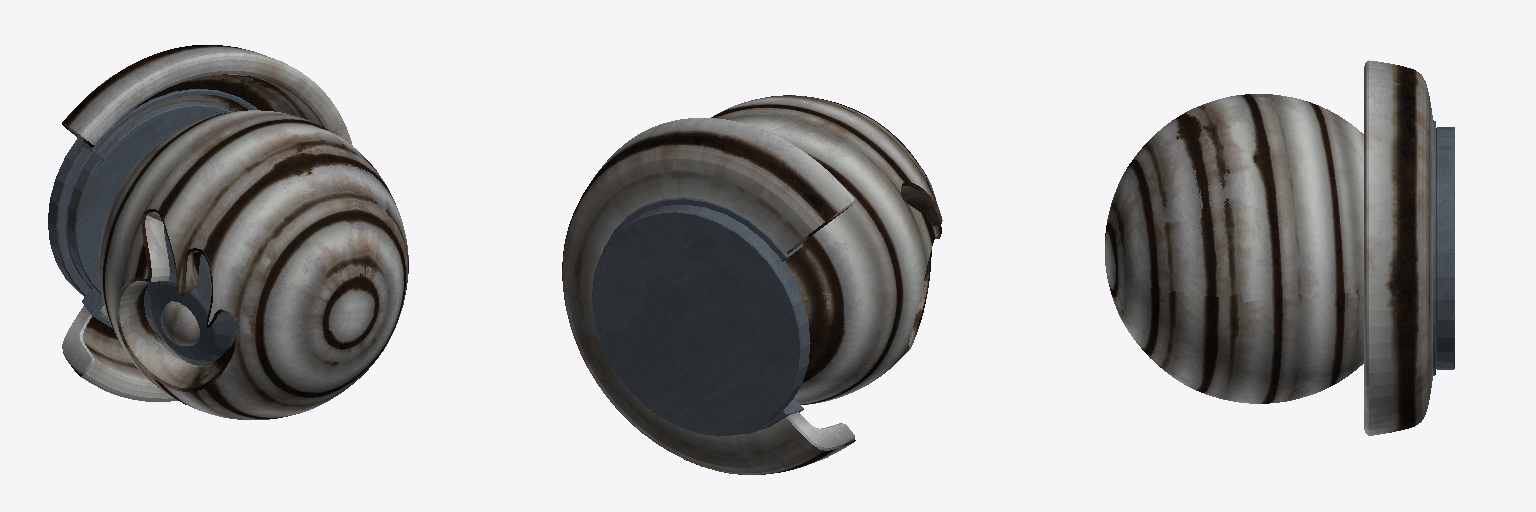
3 views of the same model, side by side, from view 1: azimuth 30°, elevation 25°; view 2: azimuth 150°, elevation 25°; view 3: azimuth 270°, elevation 25° (orthographic).
Parts seen in each view (by area): view 1: GEO-material-orb_002_material-orb.002, GEO-material-orb_material-orb, GEO-material-orb_003_material-orb.003, GEO-material-orb_004_material-orb.004; view 2: GEO-material-orb_002_material-orb.002, GEO-material-orb_material-orb, GEO-material-orb_004_material-orb.004; view 3: GEO-material-orb_002_material-orb.002, GEO-material-orb_material-orb, GEO-material-orb_004_material-orb.004.
Part boxes in pixels (x1,y1,x2,y2): GEO-material-orb_002_material-orb.002: (62,45,408,419); GEO-material-orb_material-orb: (48,110,218,296); GEO-material-orb_003_material-orb.003: (144,228,236,365); GEO-material-orb_004_material-orb.004: (82,89,257,328); GEO-material-orb_002_material-orb.002: (562,95,942,474); GEO-material-orb_material-orb: (592,205,810,436); GEO-material-orb_004_material-orb.004: (603,197,803,433); GEO-material-orb_002_material-orb.002: (1105,60,1432,435); GEO-material-orb_material-orb: (1436,127,1454,369); GEO-material-orb_004_material-orb.004: (1433,120,1435,375).
Bounding box in the file's own units: 56.21 × 62.35 × 58.2.
Materials: 2 (2 with a texture image).